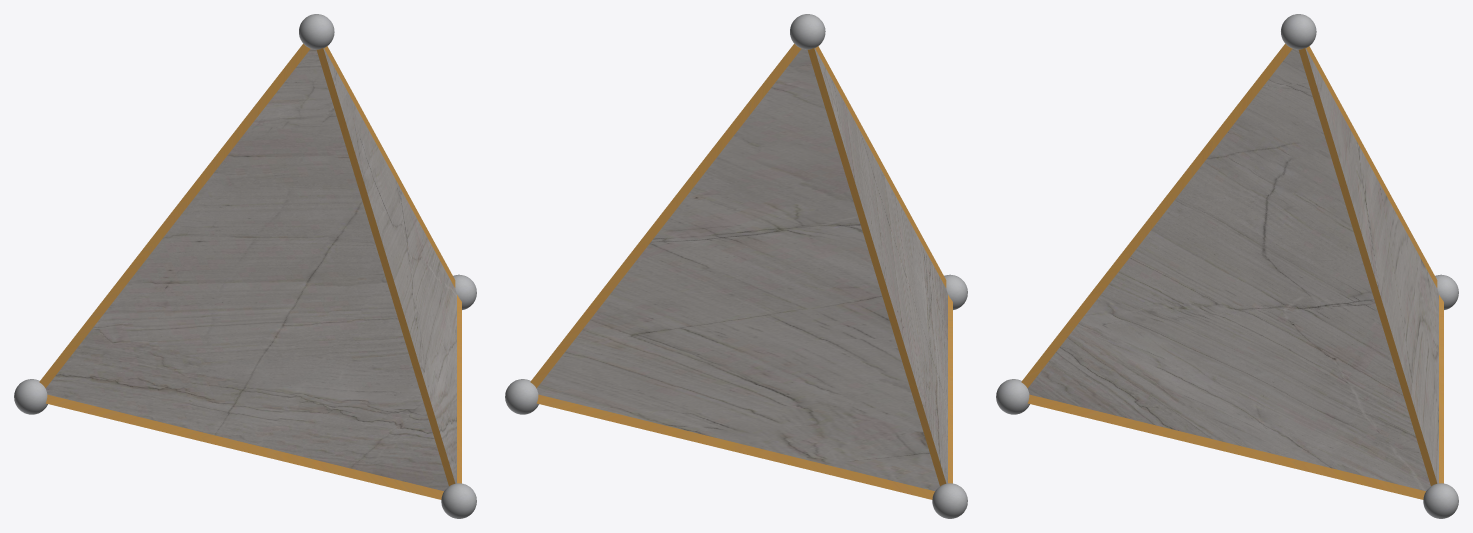
Rendered from tetraedro v2.glb.
3 views of the same model, side by side, from view 1: azimuth 30°, elevation 25°; view 2: azimuth 150°, elevation 25°; view 3: azimuth 270°, elevation 25° (orthographic).
Parts seen in each view (by area): view 1: Tetraedro, Tetraedro.001, Sphere.006, Sphere.009, Sphere.011, Sphere.010; view 2: Tetraedro, Tetraedro.001, Sphere.011, Sphere.009, Sphere.010, Sphere.006; view 3: Tetraedro, Tetraedro.001, Sphere.010, Sphere.009, Sphere.006, Sphere.011.
Part boxes in pixels (left/top/right/bottom): Tetraedro: left=45, top=48, right=456, bottom=491; Tetraedro.001: left=39, top=43, right=461, bottom=499; Sphere.006: left=441, top=483, right=476, bottom=518; Sphere.009: left=299, top=14, right=334, bottom=49; Sphere.011: left=14, top=379, right=47, bottom=414; Sphere.010: left=453, top=274, right=476, bottom=309; Tetraedro: left=536, top=48, right=947, bottom=491; Tetraedro.001: left=530, top=43, right=952, bottom=499; Sphere.011: left=932, top=483, right=967, bottom=518; Sphere.009: left=790, top=14, right=825, bottom=49; Sphere.010: left=505, top=379, right=538, bottom=414; Sphere.006: left=944, top=274, right=967, bottom=309; Tetraedro: left=1027, top=48, right=1438, bottom=491; Tetraedro.001: left=1021, top=43, right=1443, bottom=499; Sphere.010: left=1423, top=483, right=1458, bottom=518; Sphere.009: left=1281, top=14, right=1316, bottom=49; Sphere.006: left=996, top=379, right=1029, bottom=414; Sphere.011: left=1435, top=274, right=1458, bottom=309.
Bounding box in the file's own units: 1.75 × 1.45 × 1.53.
Materials: 7 (7 with a texture image).
